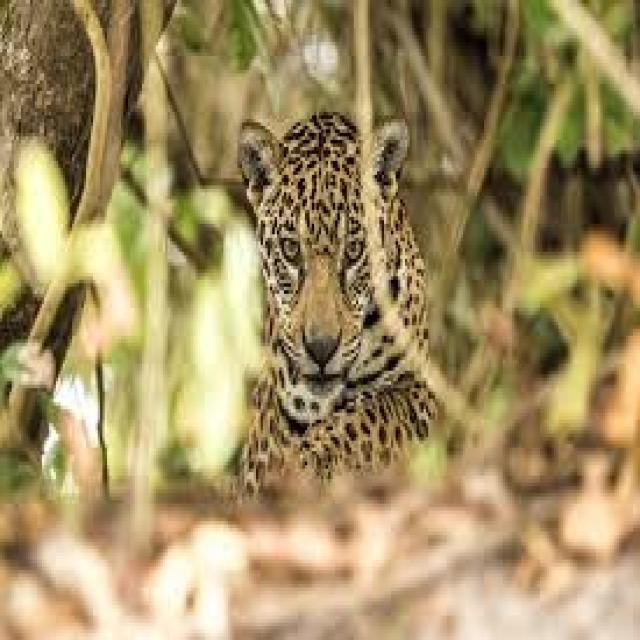Jaguar: (233, 126, 419, 462)
